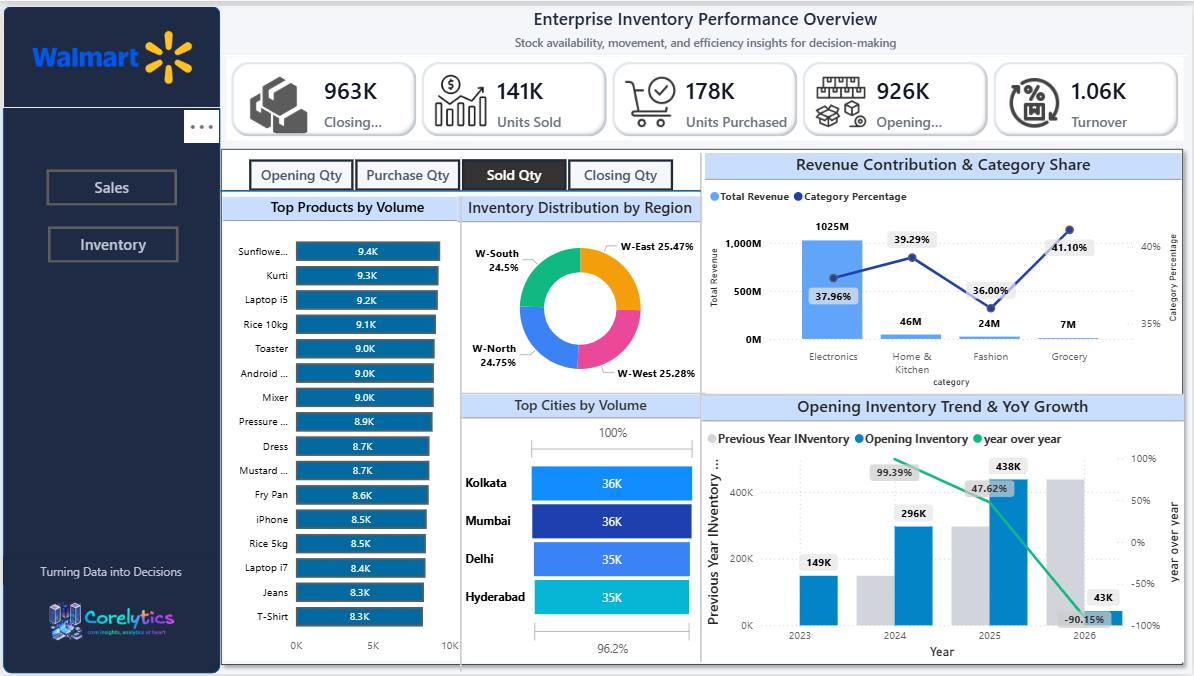

The page's visual inventory and layout, read from the dashboard file:
{"tool":"powerbi","page":{"name":"Inventory Insights","canvas":[1366,768],"ordinal":1},"visuals":[{"type":"shape","box":[0,0,250,767.2],"z":0},{"type":"image","box":[0,650,250,117.2],"z":1000},{"type":"actionButton","box":[50,184.5,150,44.8],"z":3000},{"type":"actionButton","box":[51.7,250,150,44.8],"z":4000},{"type":"image","box":[0,0,250,117.2],"z":8000},{"type":"shape","box":[0,632.8,248.3,32.8],"z":9000},{"type":"shape","title":"Enterprise Inventory Performance Overview","box":[250,0,1114.8,59.3],"z":10000},{"type":"cardVisual","fields":{"Data":["Sum(retail_dw fact_inventory.closing_stock)","Sum(retail_dw fact_inventory.sold_qty)","Sum(retail_dw fact_inventory.purchased_qty)","Sum(retail_dw fact_inventory.opening_stock)","retail_dw fact_inventory.inventory_turnover_ratio"]},"box":[257.4,59.3,1100,96.3],"z":11000},{"type":"shape","box":[240.7,155.6,1124.1,611.1],"z":12000},{"type":"barChart","title":"Top Products by  Volume","fields":{"Y":["retail_dw fact_inventory.Sold Qty"],"Category":["retail_dw dim_product.product_name"]},"box":[251.9,218.5,287,535.2],"z":13000},{"type":"slicer","fields":{"Values":["inventory_filter.inventory_filter"]},"box":[257.4,168.5,537,50],"z":14000},{"type":"funnel","title":"Top Cities by Volume","fields":{"Y":["retail_dw fact_inventory.Sold Qty"],"Category":["retail_dw dim_branch.city"]},"box":[525.9,446.3,275.9,307.4],"z":15000},{"type":"lineClusteredColumnComboChart","title":"Revenue Contribution & Category Share","fields":{"Category":["retail_dw dim_product.category"],"Y":["Sum(retail_dw fact_sales.total_revenue)"],"Y2":["retail_dw fact_inventory.Category %"]},"box":[807.7,169.2,548.1,273.1],"z":17000},{"type":"donutChart","title":"Inventory Distribution by Region","fields":{"Y":["retail_dw fact_inventory.Sold Qty"],"Category":["retail_dw dim_branch.branch_name"]},"box":[522.2,218.5,281.5,227.8],"z":18000},{"type":"lineClusteredColumnComboChart","title":"Opening Inventory Trend & YoY Growth","fields":{"Category":["retail_dw dim_date.date_id.Variation.Date Hierarchy.Year","retail_dw dim_date.date_id.Variation.Date Hierarchy.Quarter","retail_dw dim_date.date_id.Variation.Date Hierarchy.Month","retail_dw dim_date.date_id.Variation.Date Hierarchy.Day"],"Y":["retail_dw fact_inventory.sp_openingstock","Sum(retail_dw fact_inventory.Opening Quantities)"],"Y2":["retail_dw fact_inventory.YoY%_openingstock"]},"box":[803.8,446.2,553.8,307.7],"z":19000},{"type":"shape","box":[801.9,442.6,553.7,7.4],"z":20000},{"type":"shape","box":[525.9,437,281.5,18.5],"z":21000},{"type":"shape","box":[796.3,168.5,11.1,585.2],"z":22000},{"type":"shape","box":[520.4,218.5,11.1,546.3],"z":23000},{"type":"shape","box":[248.1,207.4,553.7,11.1],"z":24000}]}

Visuals, with their boxes on the page's 1366x768 design canvas (x1, y1, x2, y2). These are canvas units, not pixel positions in the 1194x676 screenshot, which may show the page scaled, cropped or inside an application window:
shape: 0,0,250,767
image: 0,650,250,767
actionButton: 50,184,200,229
actionButton: 52,250,202,295
image: 0,0,250,117
shape: 0,633,248,666
"Enterprise Inventory Performance Overview" shape: 250,0,1365,59
cardVisual - Sum(retail_dw fact_inventory.closing_stock) x Sum(retail_dw fact_inventory.sold_qty): 257,59,1357,156
shape: 241,156,1365,767
"Top Products by  Volume" barChart: 252,218,539,754
slicer - inventory_filter.inventory_filter: 257,168,794,218
"Top Cities by Volume" funnel: 526,446,802,754
"Revenue Contribution & Category Share" lineClusteredColumnComboChart: 808,169,1356,442
"Inventory Distribution by Region" donutChart: 522,218,804,446
"Opening Inventory Trend & YoY Growth" lineClusteredColumnComboChart: 804,446,1358,754
shape: 802,443,1356,450
shape: 526,437,807,456
shape: 796,168,807,754
shape: 520,218,532,765
shape: 248,207,802,218
